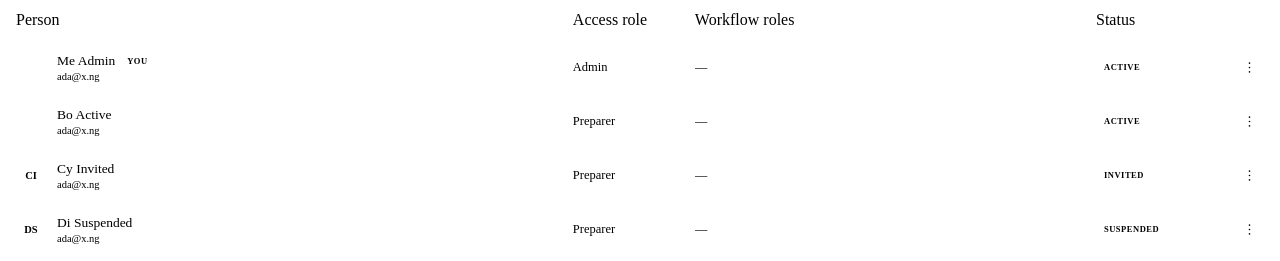
it: the row menu › your own menu has Edit and a locked Suspend, and no Remove at all
Click the 1st button with test id "member-menu-trigger" at (1250, 67), box [1236,53,1264,81]
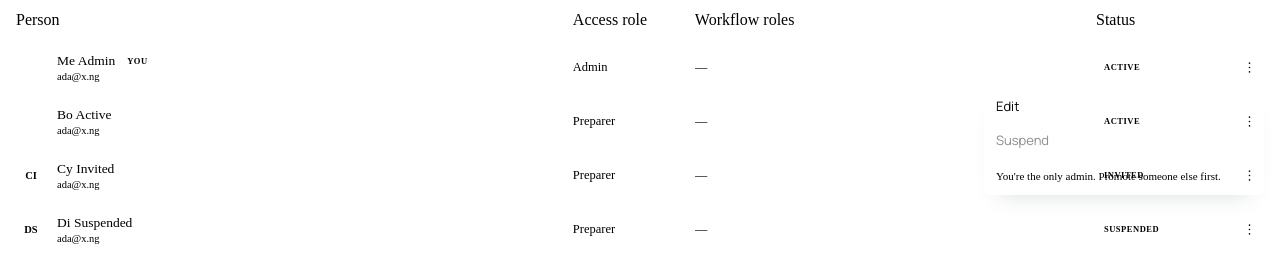
Expected: the button "Suspend" is disabled, [984,123,1264,157]
Expected: the text with test id "member-menu-reason" reads "You're the only admin. Promote someone else first.", [996,170,1221,182]
